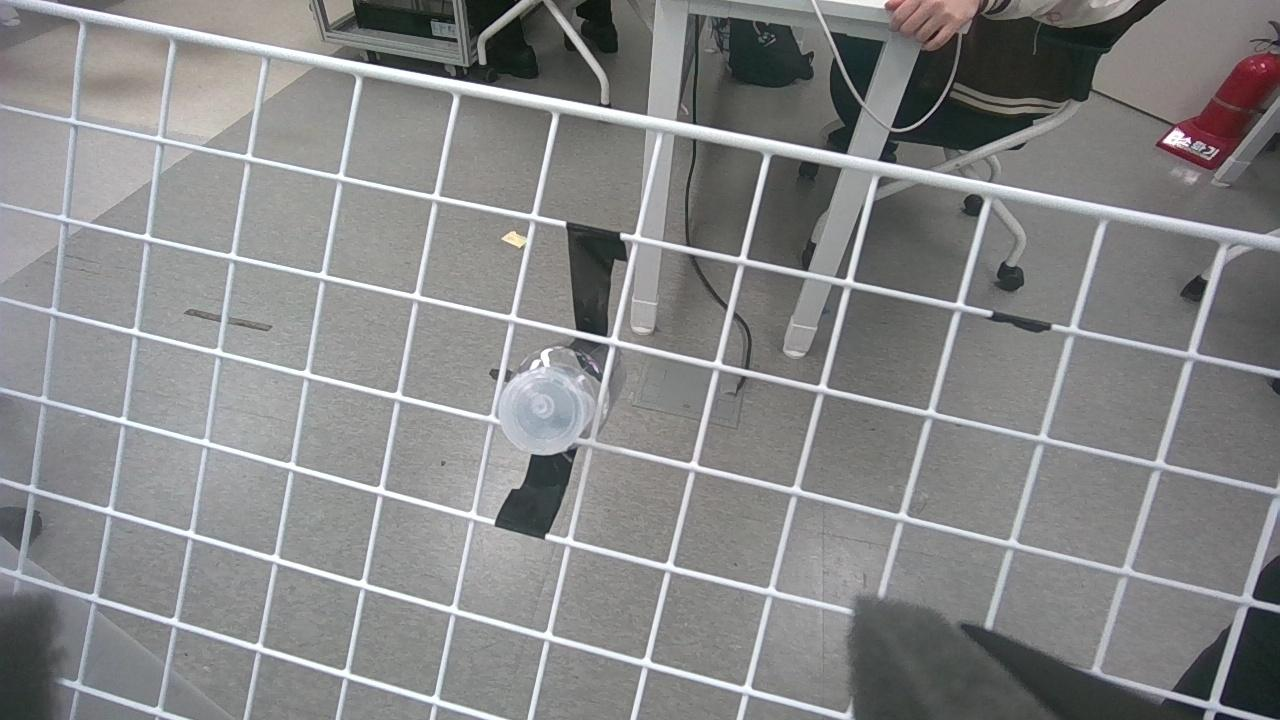Cap: (500, 374, 589, 458)
